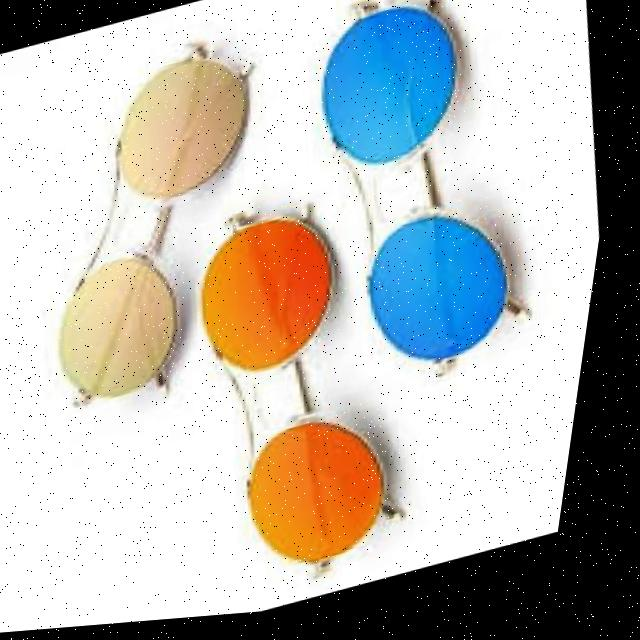gozluk: (153, 183, 446, 598)
